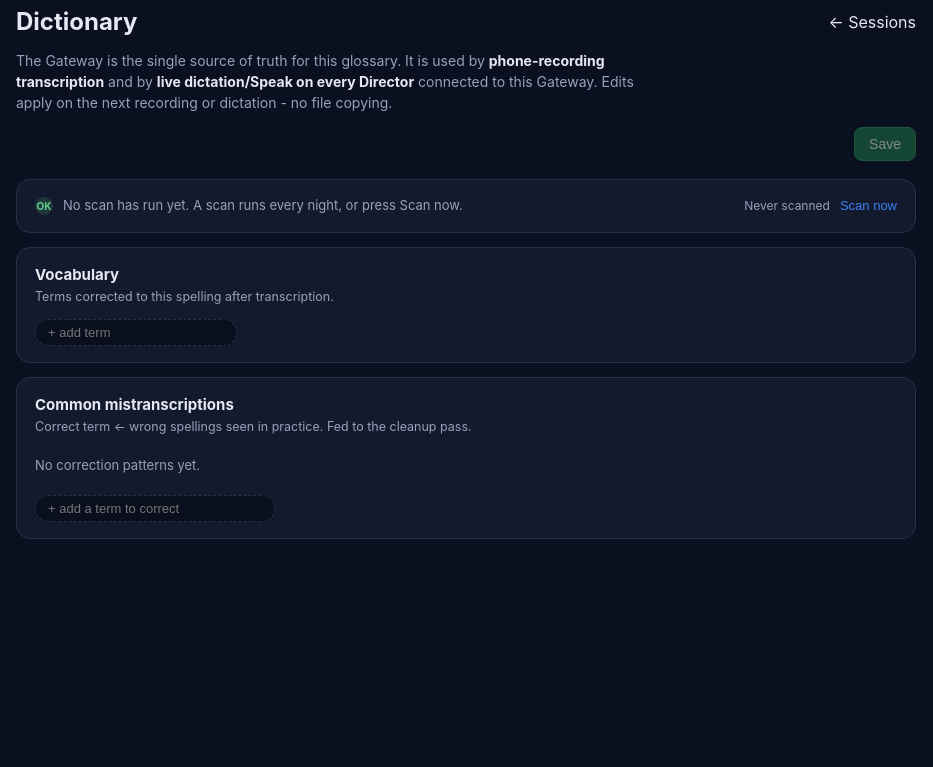
Test: DictionaryView suggestions panel › Scan now runs a scan and paints its result
This screenshot has width=933, height=767.
Click the button "Scan now".
click(868, 206)  # box [840,198,897,213]
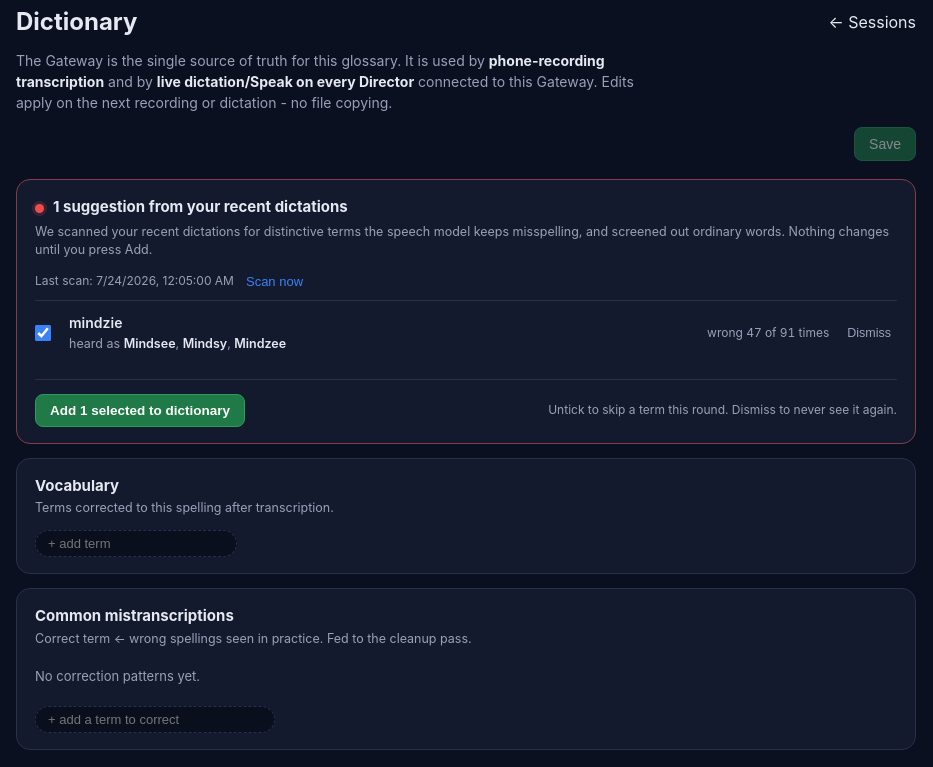
expect the text "mindzie" is shown: met, box [69,314,122,331]
expect the text "Last scan: 7/24/2026, 12:05:00 AM" is shown: met, box [35,272,234,290]
